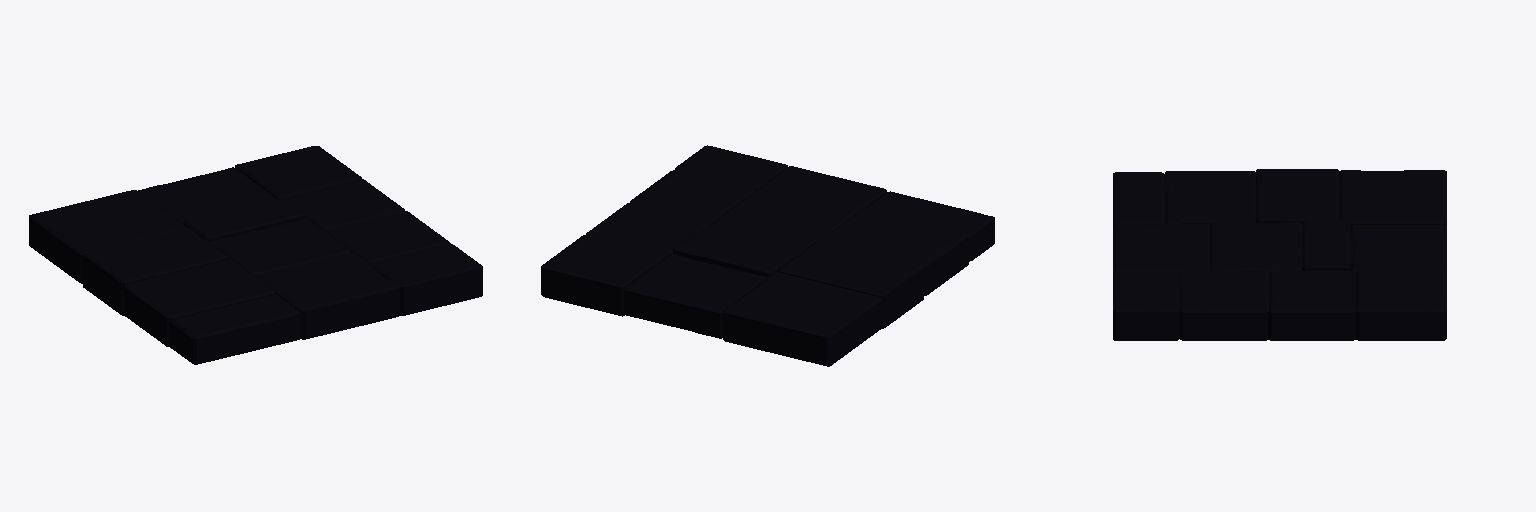
Rendered from Floor_Modular.obj.
The picture shows the model from 3 angles: view 1: azimuth 30°, elevation 25°; view 2: azimuth 150°, elevation 25°; view 3: azimuth 270°, elevation 25°; orthographic projection.
Size of the model in its own units: 2 by 0.2503 by 2.